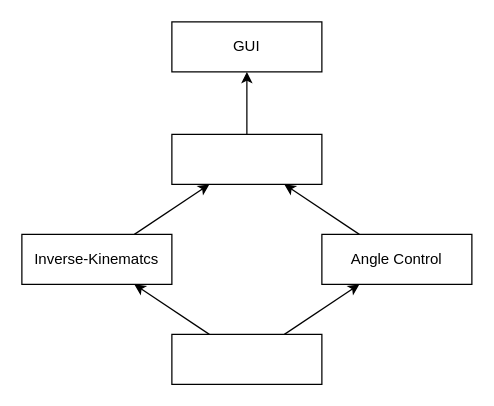
Some shapes in this 494 by 406 pixel diagram are drawn without their labels. The shapes that lost their labels are listed below. From the top down, each one's centre as x and y in pixels, then its label:
the point at 246,158: API
the point at 246,358: lowLevel
